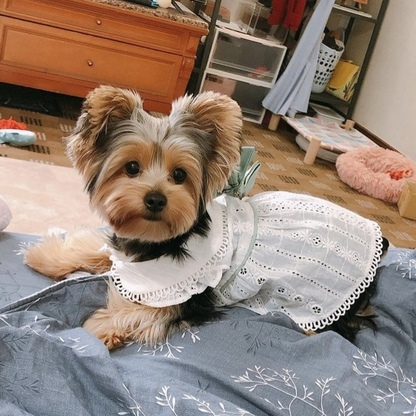yokshine: (21, 84, 387, 342)
